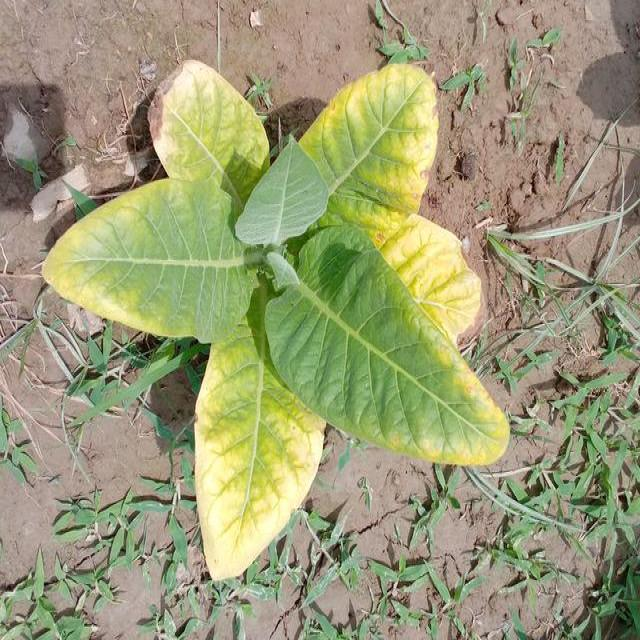crop: (62, 73, 512, 573)
